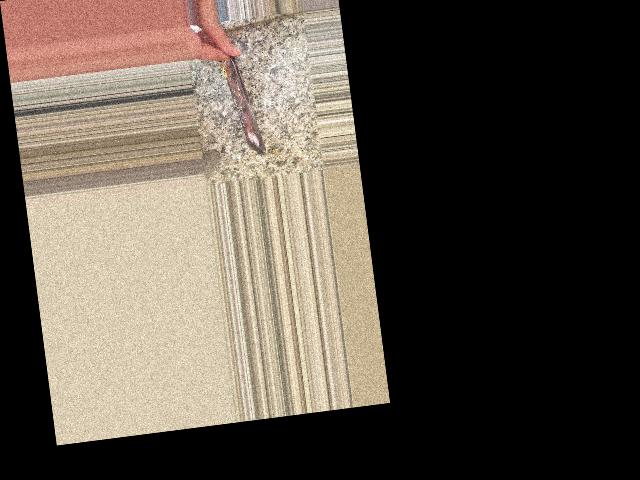chocolate: (211, 39, 272, 160)
